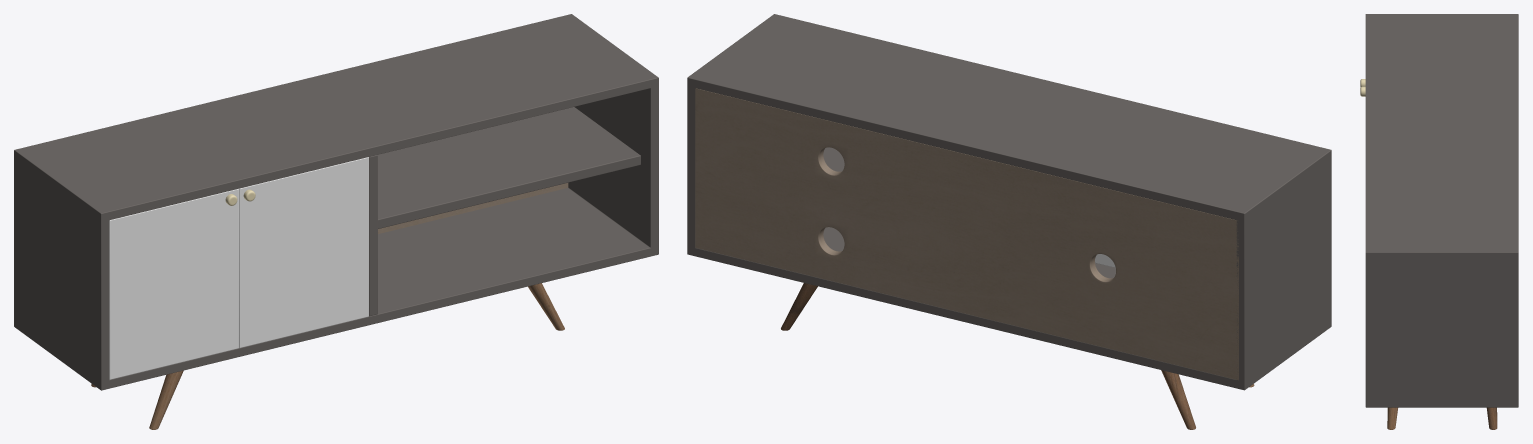
Rendered from tv-unit.glb.
The picture shows the model from 3 angles, left to right: view 1: azimuth 30°, elevation 25°; view 2: azimuth 150°, elevation 25°; view 3: azimuth 270°, elevation 25°; orthographic projection. The views are drawn at different scales.
Visible parts, largest first — view 1: ASSET; view 2: ASSET; view 3: ASSET.
Part boxes in pixels (x1,y1,x2,y2): ASSET: (14, 14, 658, 429); ASSET: (687, 14, 1331, 429); ASSET: (1360, 14, 1518, 429).
Size of the model in its own units: 1.25 by 0.5175 by 0.35.
Materials: 1 (1 with a texture image).
